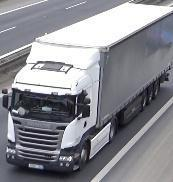Truck: (5, 2, 172, 180)
